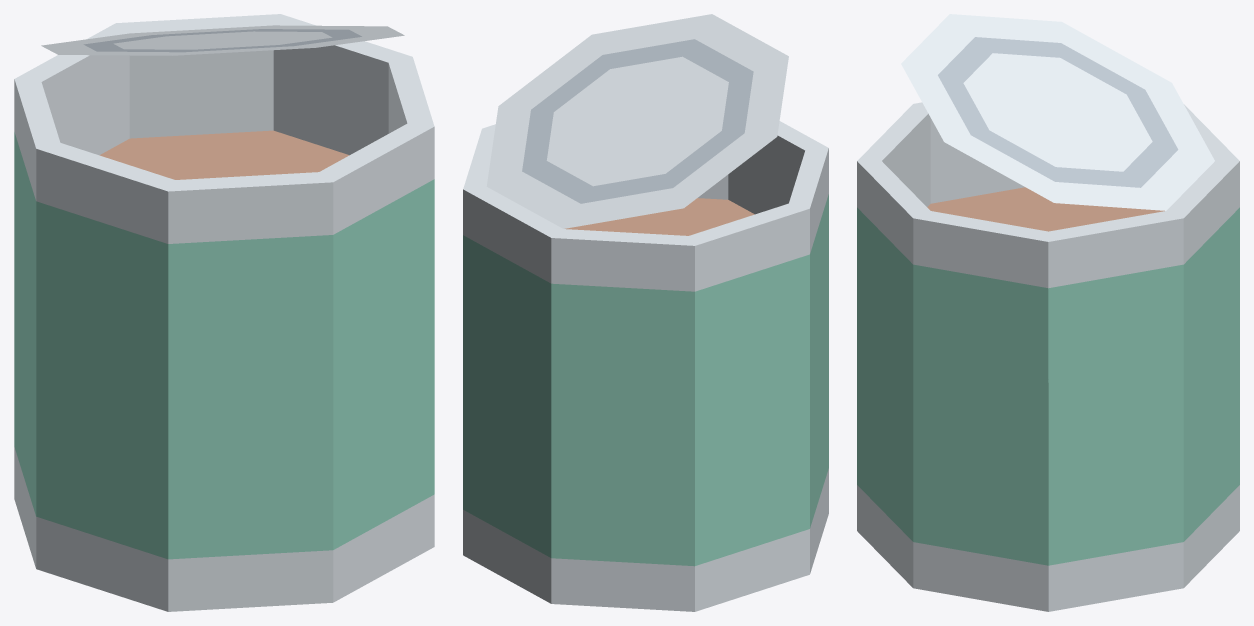
File: canOpen.glb
3 views of the same model, side by side, from view 1: azimuth 30°, elevation 25°; view 2: azimuth 150°, elevation 25°; view 3: azimuth 270°, elevation 25° (orthographic). The views are drawn at different scales.
Visible parts, largest first — view 1: canOpen; view 2: canOpen; view 3: canOpen.
Part boxes in pixels (x1,y1,x2,y2): canOpen: (14,14,434,611); canOpen: (463,14,828,611); canOpen: (857,14,1239,611).
Bounding box in the file's own units: 0.3 × 0.4071 × 0.3.
